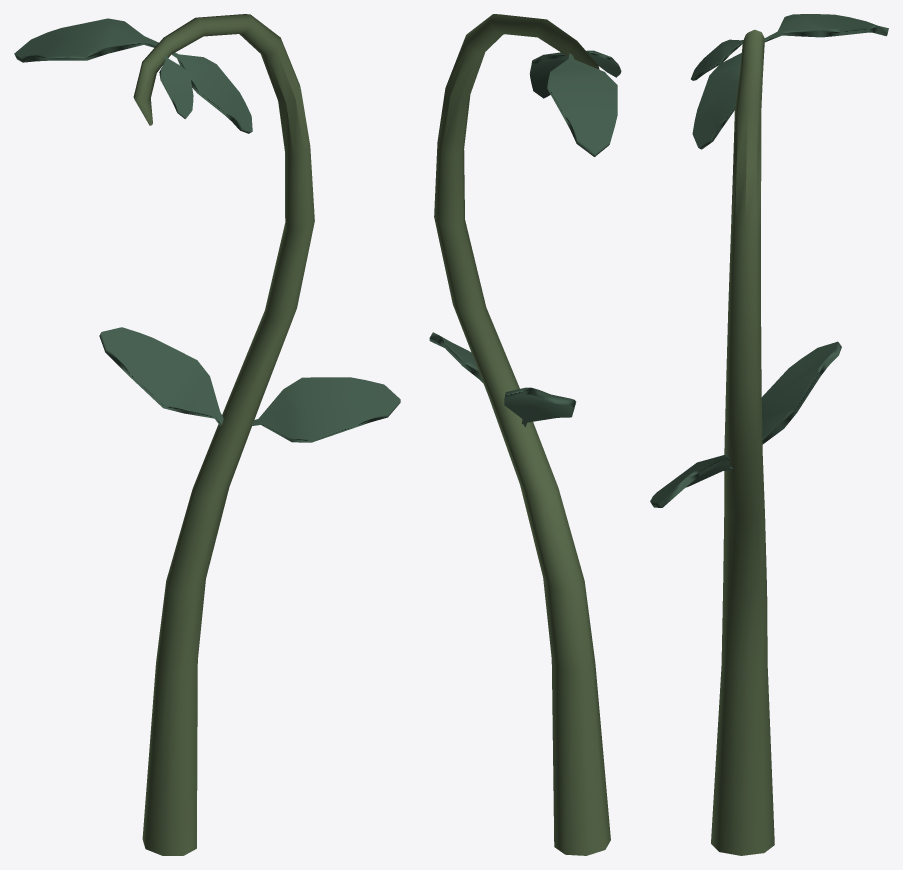
File: PL_peaStage1_01.fbx
3 views of the same model, side by side, from view 1: azimuth 30°, elevation 25°; view 2: azimuth 150°, elevation 25°; view 3: azimuth 270°, elevation 25° (orthographic).
Visible parts, largest first — view 1: PL_peaStage1_01; view 2: PL_peaStage1_01; view 3: PL_peaStage1_01.
Boxes of the visible parts, box(x1,y1,x2,y2) form: PL_peaStage1_01: box(14, 14, 400, 855); PL_peaStage1_01: box(429, 14, 621, 855); PL_peaStage1_01: box(650, 14, 888, 855).
Size of the model in its own units: 10.8 by 29.97 by 7.83.
1 material, 1 textured.
